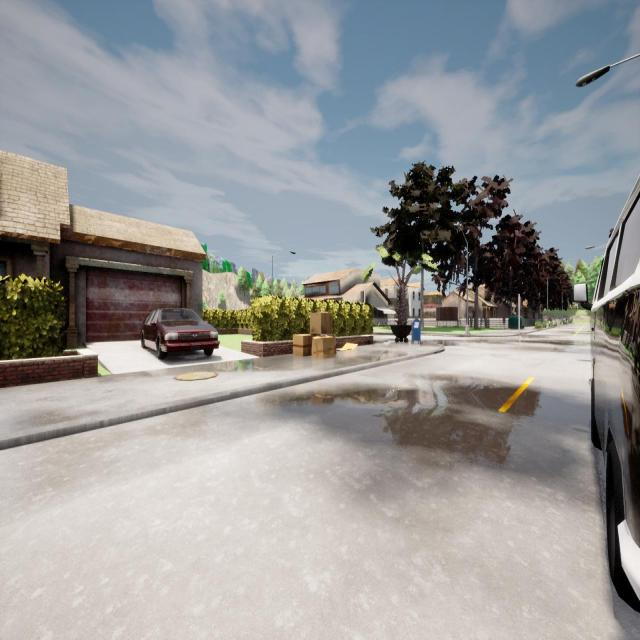Vehicle: (574, 176, 640, 616), (140, 305, 220, 364)
traffic_light: (361, 291, 364, 303), (518, 297, 521, 306)
